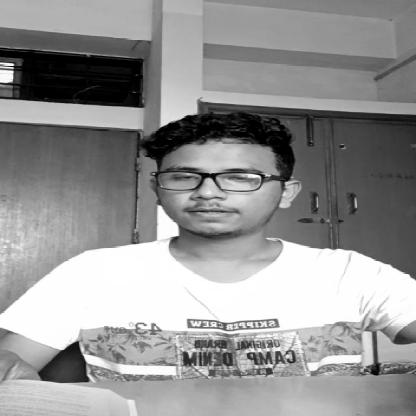Normal: (147, 119, 284, 237)
